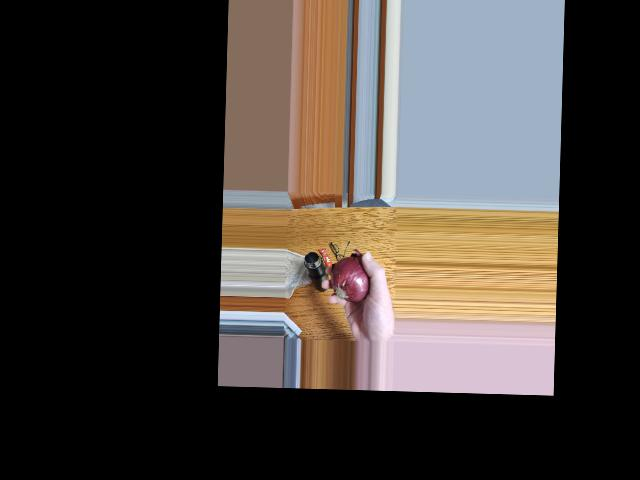onion: (330, 258, 367, 295)
